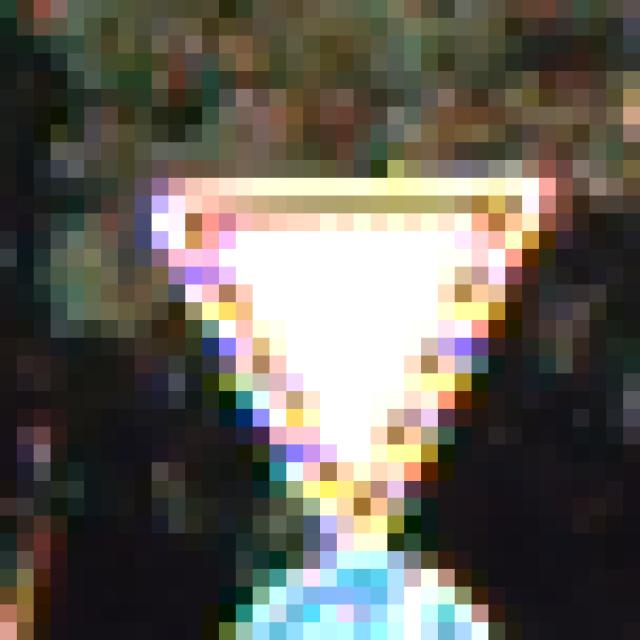Give Way: (102, 90, 540, 552)
